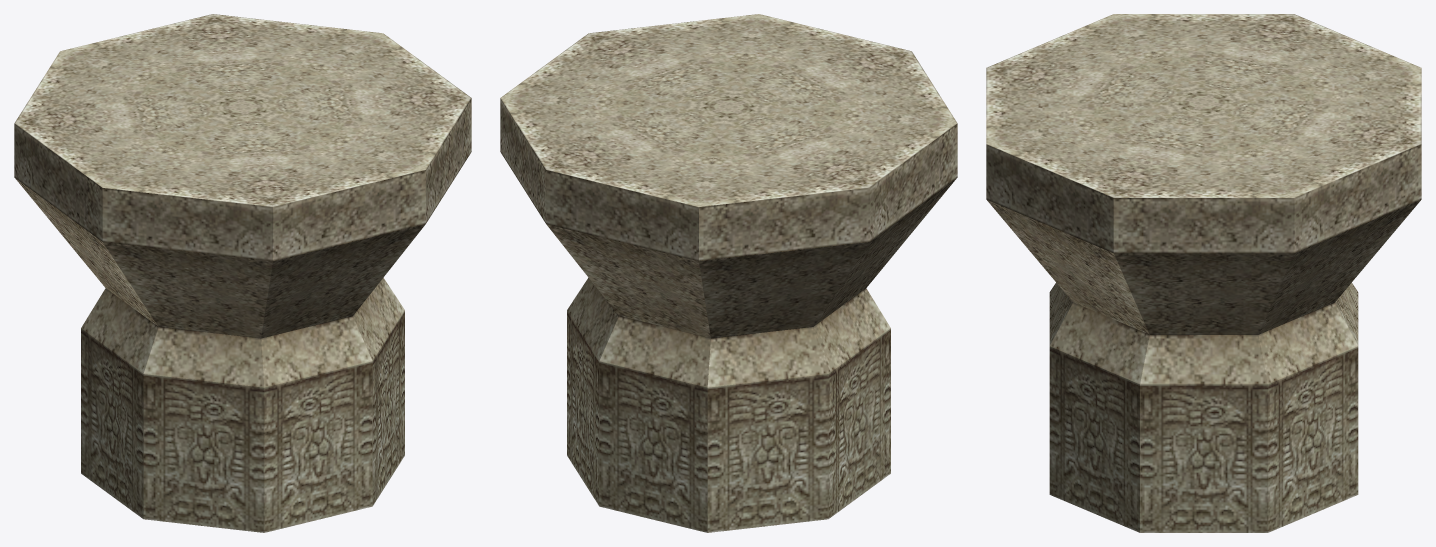
Rendered from general_obj_bigtoewr11.fbx.
The picture shows the model from 3 angles, left to right: view 1: azimuth 30°, elevation 25°; view 2: azimuth 150°, elevation 25°; view 3: azimuth 270°, elevation 25°; orthographic projection. The views are drawn at different scales.
Parts seen in each view (by area): view 1: Sphere01; view 2: Sphere01; view 3: Sphere01.
Part boxes in pixels (<box>): Sphere01: <box>14,14,471,532</box>; Sphere01: <box>500,14,957,532</box>; Sphere01: <box>986,14,1421,532</box>.
Size of the model in its own units: 4.31 by 4 by 4.31.
